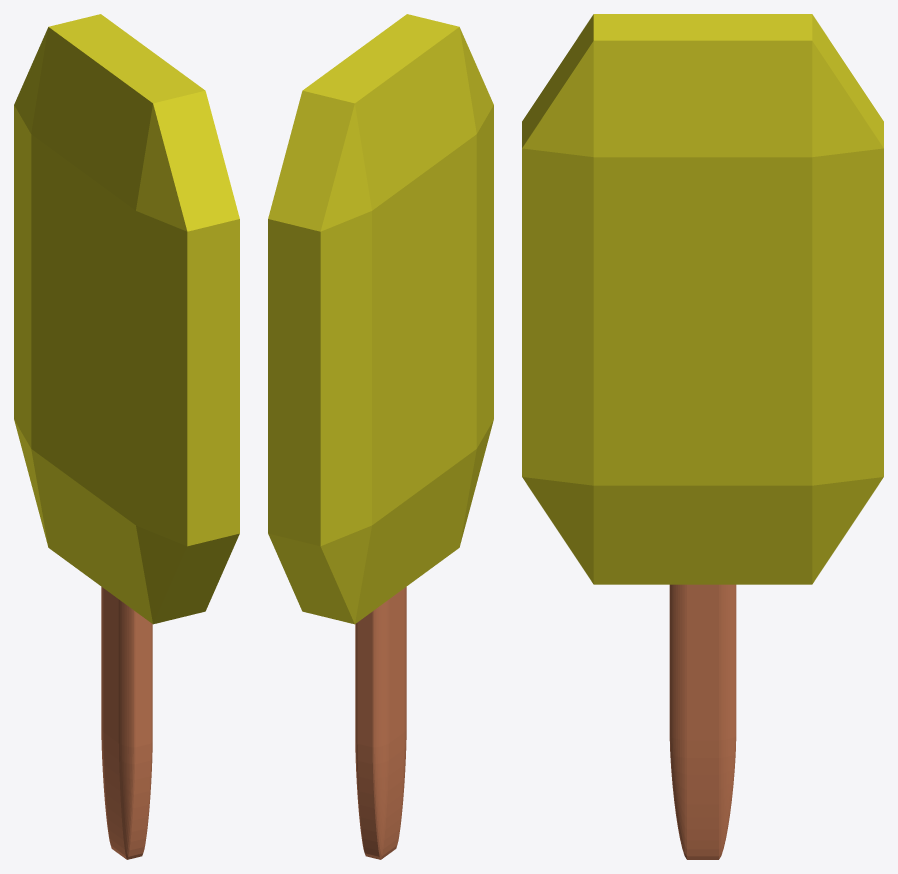
Rendered from candy.gltf.
The picture shows the model from 3 angles, left to right: view 1: azimuth 30°, elevation 25°; view 2: azimuth 150°, elevation 25°; view 3: azimuth 270°, elevation 25°; orthographic projection. The views are drawn at different scales.
Parts seen in each view (by area): view 1: Cube, Cube.001; view 2: Cube, Cube.001; view 3: Cube, Cube.001.
Boxes of the visible parts, bbox=[...] form: Cube: bbox=[14, 14, 239, 624]; Cube.001: bbox=[101, 587, 152, 859]; Cube: bbox=[268, 14, 493, 624]; Cube.001: bbox=[355, 587, 406, 859]; Cube: bbox=[522, 14, 883, 584]; Cube.001: bbox=[669, 584, 736, 859].
Bounding box in the file's own units: 0.22 × 1.92 × 0.76.
